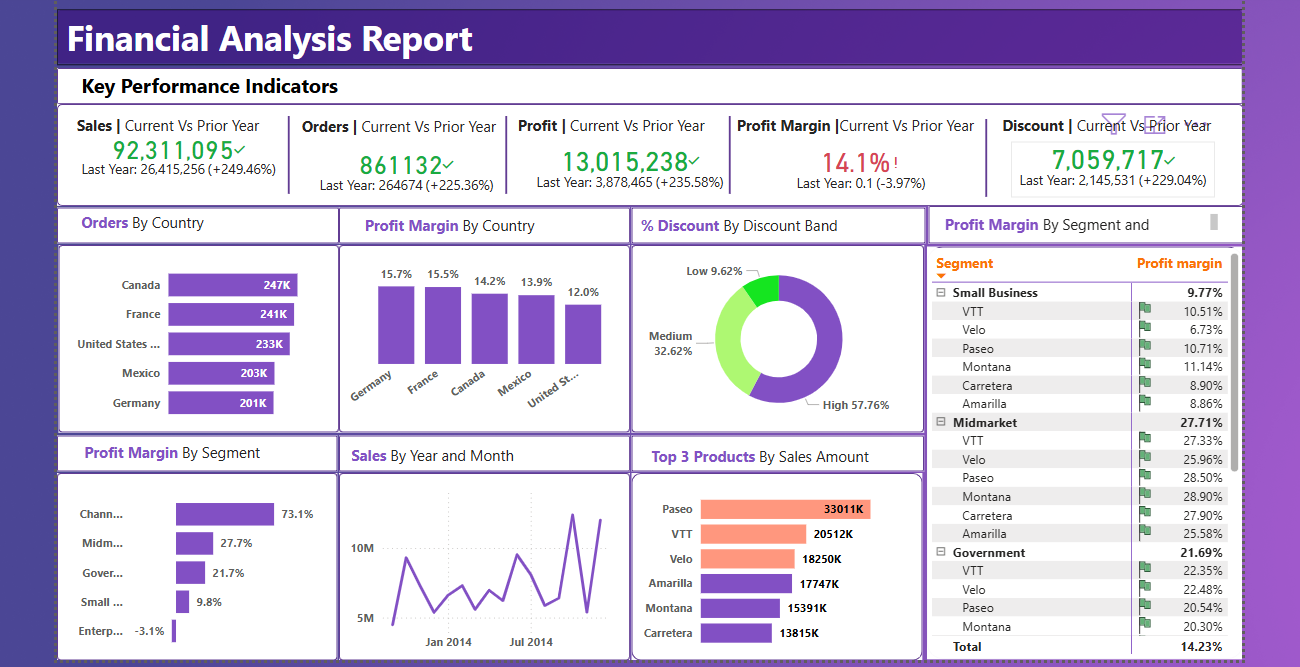

The dashboard page shown, as its layout file describes it:
{"tool":"powerbi","page":{"name":"Page 1","canvas":[1280,720],"ordinal":0},"visuals":[{"type":"shape","box":[939.2,273.6,341.7,445.3],"z":0},{"type":"shape","title":"Financial Analysis Report","box":[0,17.8,1280.8,59.9],"z":1000},{"type":"shape","box":[0,119.8,1280.8,110.1],"z":2000},{"type":"shape","box":[0,81,1280,38.9],"z":3000},{"type":"shape","box":[0,231.5,304.4,38.9],"z":4000},{"type":"shape","box":[304.4,231.5,314.1,38.9],"z":5000},{"type":"shape","box":[620.2,231.5,317.4,38.9],"z":6000},{"type":"shape","box":[0,477.7,302.8,38.9],"z":7000},{"type":"shape","box":[304.4,477.7,314.1,38.9],"z":8000},{"type":"shape","box":[620.2,477.7,315.7,38.9],"z":9000},{"type":"shape","box":[940,229.9,340,40.5],"z":10000},{"type":"textbox","box":[4.9,17.8,472.8,59.9],"z":11000},{"type":"textbox","box":[16.2,126.3,225.1,34],"z":12000},{"type":"textbox","box":[21,79.3,320.6,40.5],"z":13000},{"type":"shape","box":[241.3,132.8,17.8,84.2],"z":14000},{"type":"kpi","fields":{"TrendLine":["Date Table.Year"],"Indicator":["Analysis.Orders"],"Goal":["Analysis.Orders LY"]},"box":[267.2,160.3,220.2,69.6],"z":15000},{"type":"kpi","fields":{"TrendLine":["Date Table.Year"],"Indicator":["Analysis.Profit"],"Goal":["Analysis.Profit LY"]},"box":[508.4,160.3,220.2,61.5],"z":16000},{"type":"kpi","fields":{"TrendLine":["Date Table.Year"],"Indicator":["Analysis.Profit margin"],"Goal":["Analysis.Profit margin LY"]},"box":[757.8,161.9,220.2,61.5],"z":17000},{"type":"kpi","fields":{"TrendLine":["Date Table.Year"],"Indicator":["Analysis.Discount offered"],"Goal":["Analysis.Discount LY"]},"box":[1029.8,160.3,220.2,59.9],"z":18000},{"type":"textbox","box":[259.1,127.9,233.2,34],"z":19000},{"type":"textbox","box":[492.2,126.3,220.2,34],"z":20000},{"type":"textbox","box":[728.7,126.3,276.9,34],"z":21000},{"type":"textbox","box":[1015.3,126.3,247.7,34],"z":22000},{"type":"shape","box":[474.4,132.8,21,84.2],"z":23000},{"type":"shape","box":[715.7,132.8,21,84.2],"z":24000},{"type":"shape","box":[991,136,24.3,84.2],"z":25000},{"type":"kpi","fields":{"TrendLine":["Date Table.Year"],"Indicator":["Analysis.Sales Amount"],"Goal":["Analysis.Sales Amount LY"]},"box":[21,150.6,220.2,76.1],"z":26000},{"type":"textbox","box":[21,231.5,220.2,32.4],"z":27000},{"type":"textbox","box":[327.1,234.8,220.2,32.4],"z":28000},{"type":"textbox","box":[625,234.8,304.4,37.2],"z":29000},{"type":"shape","box":[304.4,272,314.1,202.4],"z":30000,"group":"g2"},{"type":"shape","box":[620.2,272,315.7,202.4],"z":30000,"group":"g3"},{"type":"shape","box":[304.4,518.2,314.1,202.4],"z":30000},{"type":"group","id":"g1","title":"Group 1","box":[0.6,272,304.4,202.4],"z":31000},{"type":"group","id":"g2","title":"Group 2","box":[304.4,272,314.1,202.4],"z":32000},{"type":"shape","box":[304.4,517.6,314.1,202.4],"z":32000,"group":"g5"},{"type":"shape","box":[0,517.9,302.8,202.4],"z":32000,"group":"g4"},{"type":"group","id":"g3","title":"Group 3","box":[620.2,272,315.7,202.4],"z":33000},{"type":"shape","box":[620.2,518.2,314.1,202.4],"z":33000,"group":"g6"},{"type":"group","id":"g4","title":"Group 4","box":[0,517.9,302.8,202.4],"z":34000},{"type":"group","id":"g5","title":"Group 5","box":[304.4,517.6,314.1,202.4],"z":35000},{"type":"group","id":"g6","title":"Group 6","box":[620.2,518.2,314.1,202.4],"z":36000},{"type":"textbox","box":[24.3,479.3,220.2,32.4],"z":37000},{"type":"donutChart","fields":{"Category":["Financials.Discount Band"],"Y":["Analysis.Discount offered"]},"box":[623.4,276.9,310.9,192.7],"z":37001,"group":"g3"},{"type":"columnChart","fields":{"Category":["Financials.Country"],"Y":["Analysis.Profit margin"]},"box":[309.3,278.5,304.4,184.6],"z":37001,"group":"g2"},{"type":"barChart","fields":{"Category":["Financials.Segment"],"Y":["Analysis.Profit margin"]},"box":[4.9,524.4,280.1,194.3],"z":37003,"group":"g4"},{"type":"textbox","box":[312.5,482.5,220.2,32.4],"z":38000},{"type":"lineChart","fields":{"Category":["Date Table.Date.Variation.Date Hierarchy.Year","Date Table.Date.Variation.Date Hierarchy.Month"],"Y":["Analysis.Sales Amount"]},"box":[310.5,523.6,304.4,194.3],"z":38000,"group":"g5"},{"type":"barChart","fields":{"Y":["Analysis.Sales Amount"],"Category":["Financials.Product"]},"box":[626.7,523.1,304.4,194.3],"z":38002,"group":"g6"},{"type":"shape","box":[2.2,272,302.8,202.4],"z":38750,"group":"g1"},{"type":"textbox","box":[636.4,484.1,262.3,32.4],"z":39000},{"type":"barChart","fields":{"Category":["Financials.Country"],"Y":["Analysis.Orders"]},"box":[0.6,277.4,299.6,195.9],"z":39006,"group":"g1"},{"type":"pivotTable","fields":{"Rows":["Financials.Segment","Financials.Product"],"Values":["Analysis.Profit margin"]},"box":[939.2,275.3,341.7,443.7],"z":40000},{"type":"textbox","box":[953.7,233.2,304.4,37.2],"z":41000}]}

Visuals, with their boxes in screenshot pixels (x1, y1, x2, y2):
shape: (x1=922, y1=243, x2=1234, y2=650)
"Financial Analysis Report" shape: (x1=64, y1=9, x2=1234, y2=64)
shape: (x1=64, y1=103, x2=1234, y2=203)
shape: (x1=64, y1=67, x2=1234, y2=103)
shape: (x1=64, y1=205, x2=342, y2=240)
shape: (x1=342, y1=205, x2=629, y2=240)
shape: (x1=631, y1=205, x2=921, y2=240)
shape: (x1=64, y1=430, x2=341, y2=465)
shape: (x1=342, y1=430, x2=629, y2=465)
shape: (x1=631, y1=430, x2=919, y2=465)
shape: (x1=923, y1=203, x2=1234, y2=240)
textbox: (x1=69, y1=9, x2=501, y2=64)
textbox: (x1=79, y1=109, x2=285, y2=140)
textbox: (x1=84, y1=66, x2=376, y2=103)
shape: (x1=285, y1=115, x2=301, y2=191)
kpi - Date Table.Year x Analysis.Orders: (x1=308, y1=140, x2=510, y2=203)
kpi - Date Table.Year x Analysis.Profit: (x1=529, y1=140, x2=730, y2=196)
kpi - Date Table.Year x Analysis.Profit margin: (x1=757, y1=141, x2=958, y2=197)
kpi - Date Table.Year x Analysis.Discount offered: (x1=1005, y1=140, x2=1206, y2=194)
textbox: (x1=301, y1=110, x2=514, y2=141)
textbox: (x1=514, y1=109, x2=715, y2=140)
textbox: (x1=730, y1=109, x2=983, y2=140)
textbox: (x1=992, y1=109, x2=1218, y2=140)
shape: (x1=498, y1=115, x2=517, y2=191)
shape: (x1=718, y1=115, x2=737, y2=191)
shape: (x1=970, y1=117, x2=992, y2=194)
kpi - Date Table.Year x Analysis.Sales Amount: (x1=84, y1=131, x2=285, y2=200)
textbox: (x1=84, y1=205, x2=285, y2=234)
textbox: (x1=363, y1=208, x2=564, y2=237)
textbox: (x1=635, y1=208, x2=913, y2=242)
shape: (x1=342, y1=242, x2=629, y2=427)
shape: (x1=631, y1=242, x2=919, y2=427)
shape: (x1=342, y1=467, x2=629, y2=651)
"Group 1" group: (x1=65, y1=242, x2=343, y2=427)
"Group 2" group: (x1=342, y1=242, x2=629, y2=427)
shape: (x1=342, y1=466, x2=629, y2=651)
shape: (x1=64, y1=466, x2=341, y2=651)
"Group 3" group: (x1=631, y1=242, x2=919, y2=427)
shape: (x1=631, y1=467, x2=918, y2=651)
"Group 4" group: (x1=64, y1=466, x2=341, y2=651)
"Group 5" group: (x1=342, y1=466, x2=629, y2=651)
"Group 6" group: (x1=631, y1=467, x2=918, y2=651)
textbox: (x1=87, y1=431, x2=288, y2=461)
donutChart - Financials.Discount Band x Analysis.Discount offered: (x1=634, y1=246, x2=918, y2=422)
columnChart - Financials.Country x Analysis.Profit margin: (x1=347, y1=248, x2=625, y2=416)
barChart - Financials.Segment x Analysis.Profit margin: (x1=69, y1=472, x2=325, y2=650)
textbox: (x1=350, y1=434, x2=551, y2=464)
lineChart - Date Table.Date.Variation.Date Hierarchy.Year x Date Table.Date.Variation.Date Hierarchy.Month: (x1=348, y1=472, x2=626, y2=649)
barChart - Analysis.Sales Amount x Financials.Product: (x1=637, y1=471, x2=915, y2=649)
shape: (x1=66, y1=242, x2=343, y2=427)
textbox: (x1=646, y1=435, x2=885, y2=465)
barChart - Financials.Country x Analysis.Orders: (x1=65, y1=247, x2=339, y2=426)
pivotTable - Financials.Segment x Financials.Product: (x1=922, y1=245, x2=1234, y2=650)
textbox: (x1=936, y1=206, x2=1214, y2=240)
